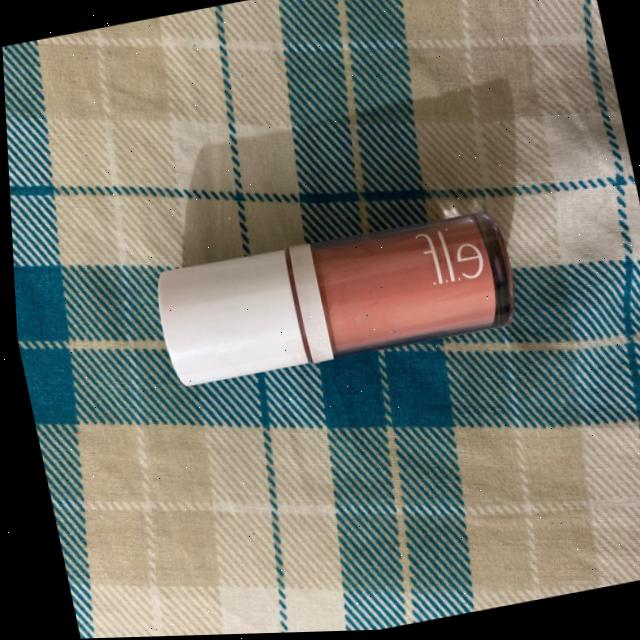lip gloss: (123, 175, 556, 475)
